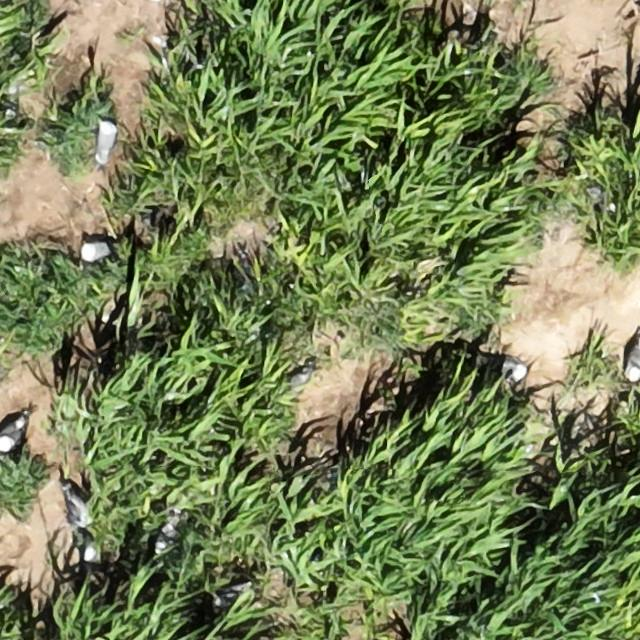umineko: (485, 354, 529, 381), (96, 120, 116, 162), (1, 417, 25, 451), (623, 338, 640, 380), (80, 240, 110, 260), (83, 540, 104, 566)
